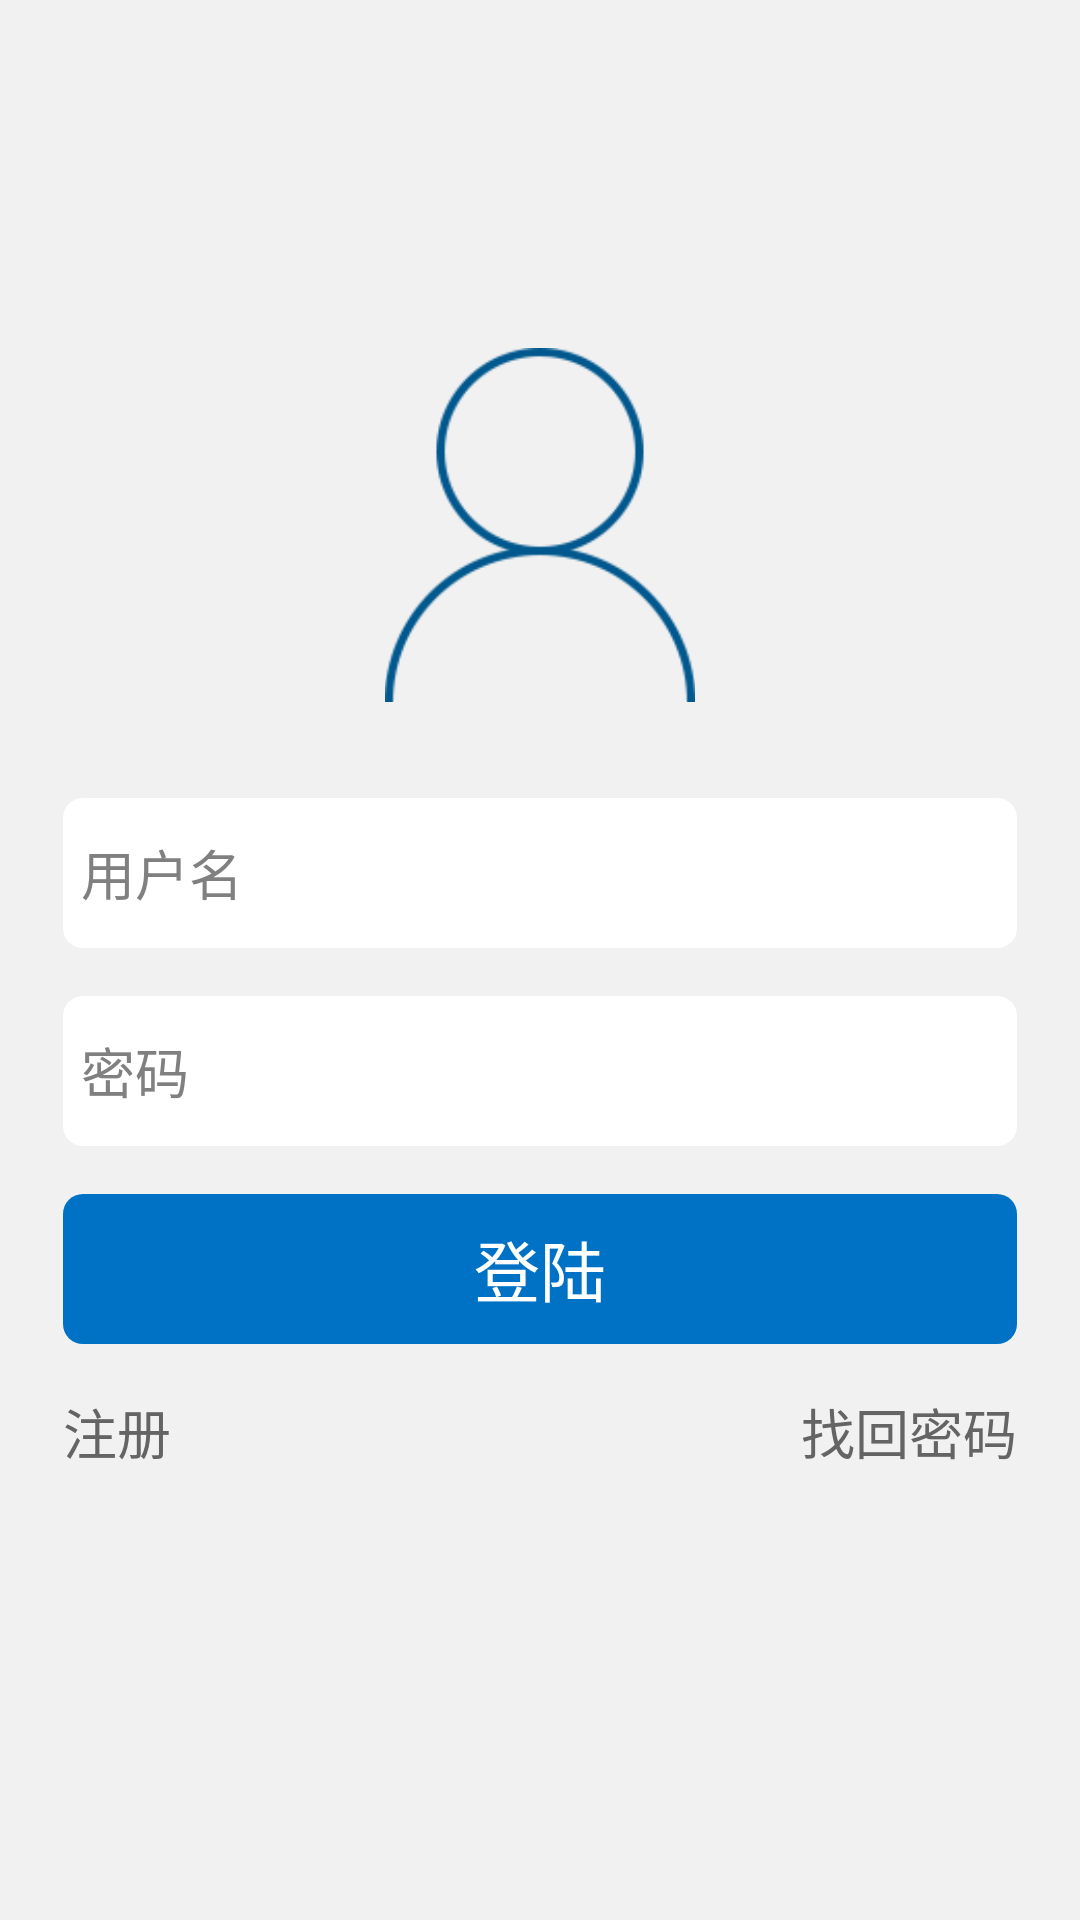

Where icons sit on this 1080*1920 app screen, as (x1, y1, x2, y2):
user: (385, 348, 695, 702)
